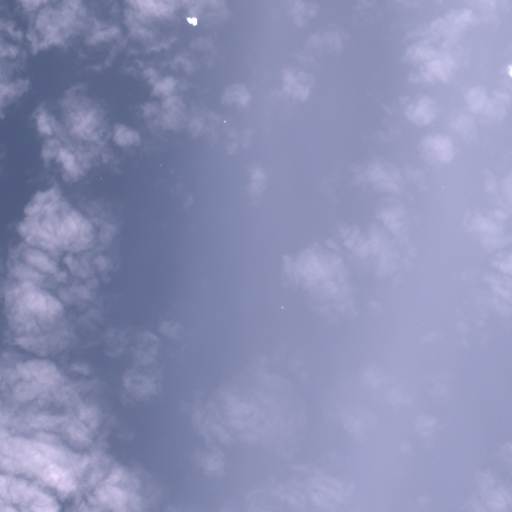Iceberg: (186, 17, 197, 25), (224, 120, 225, 122), (282, 306, 283, 308)
